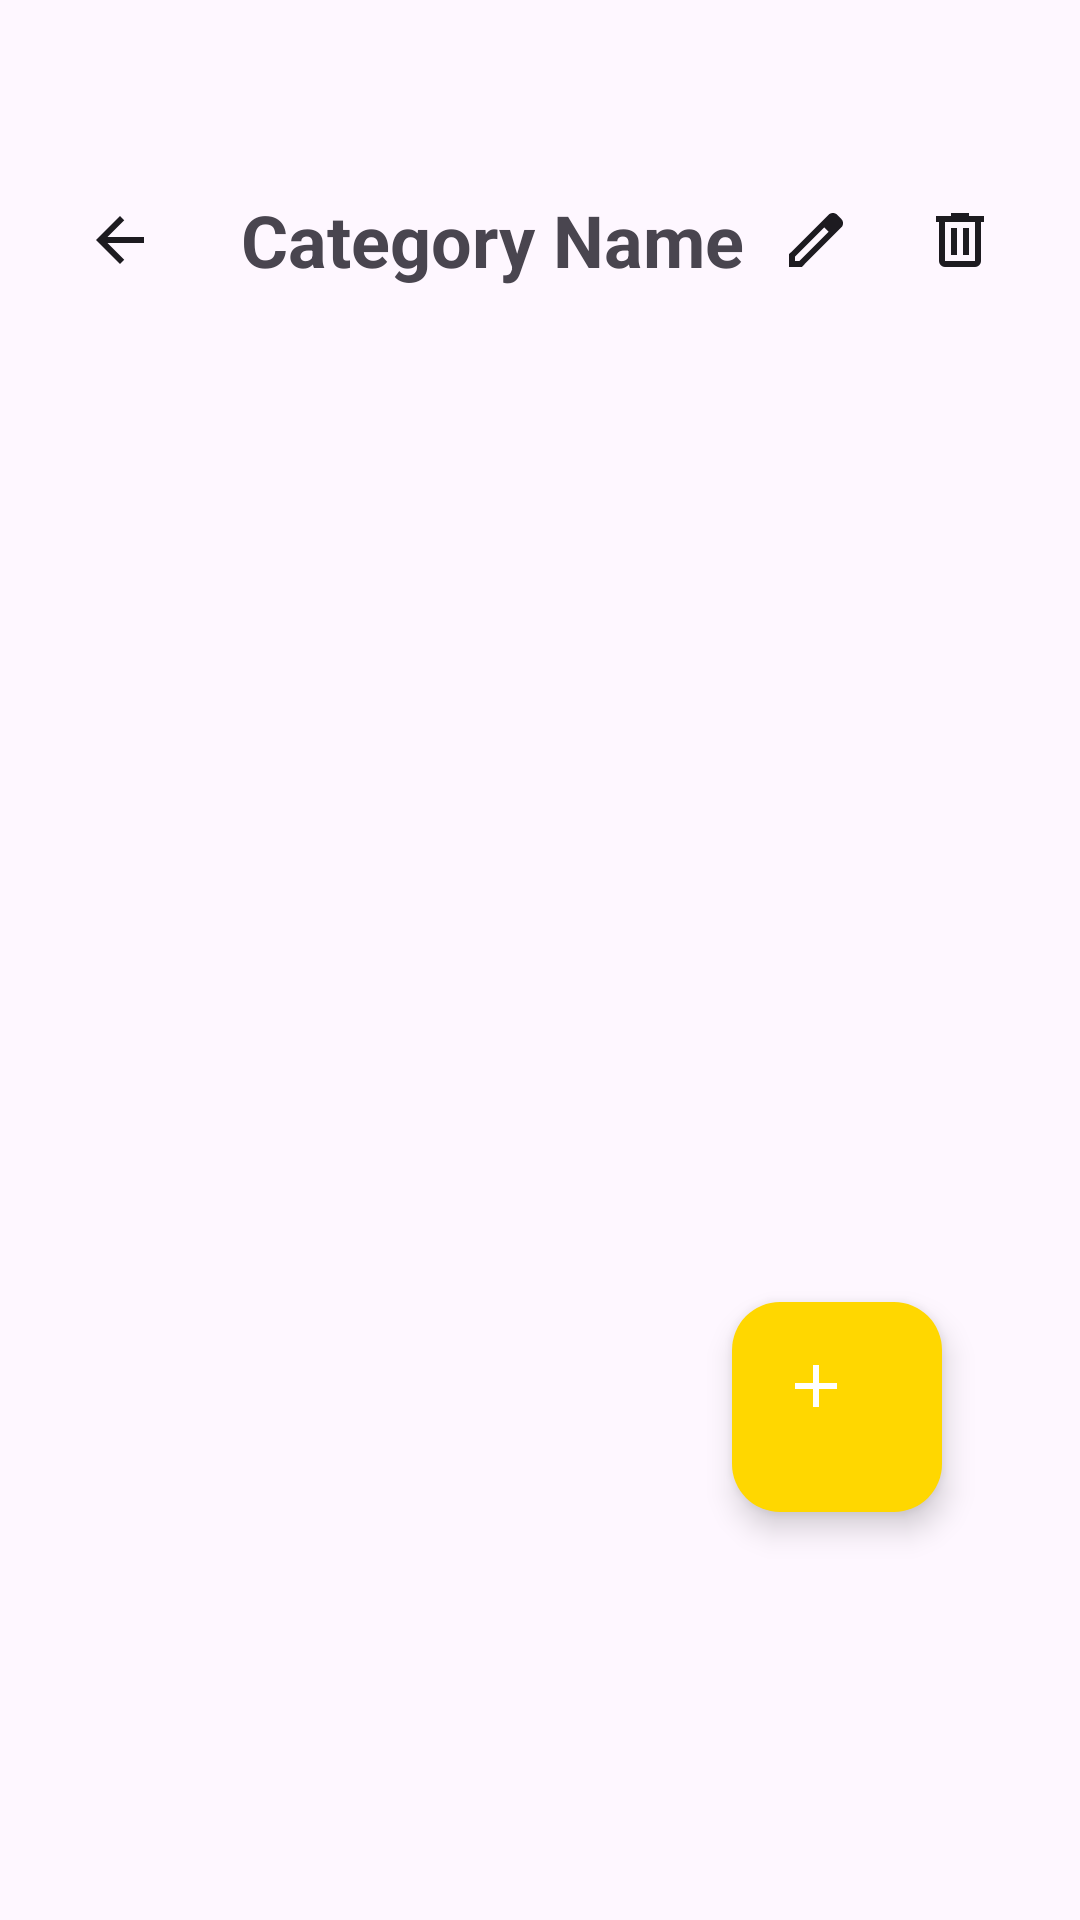

Icons on this 1080×1920 Android screen, each with its box as (x1, y1, x2, y2):
Add reminder: (732, 1302, 942, 1512)
Back: (96, 216, 144, 264)
Delete: (936, 213, 984, 267)
Edit: (789, 213, 843, 267)
